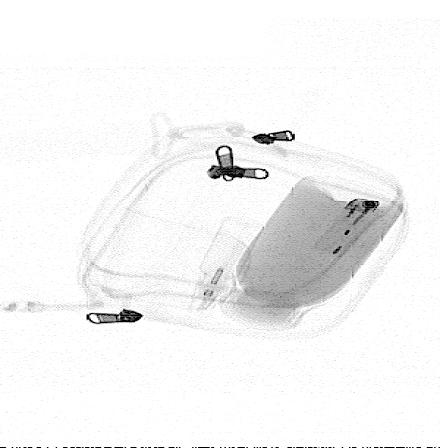Lighter: (313, 198, 382, 256)
